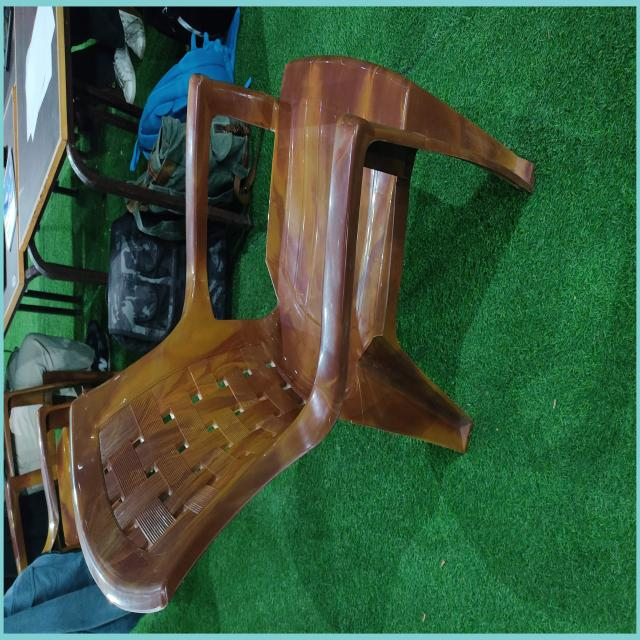Chair: (35, 53, 535, 614)
